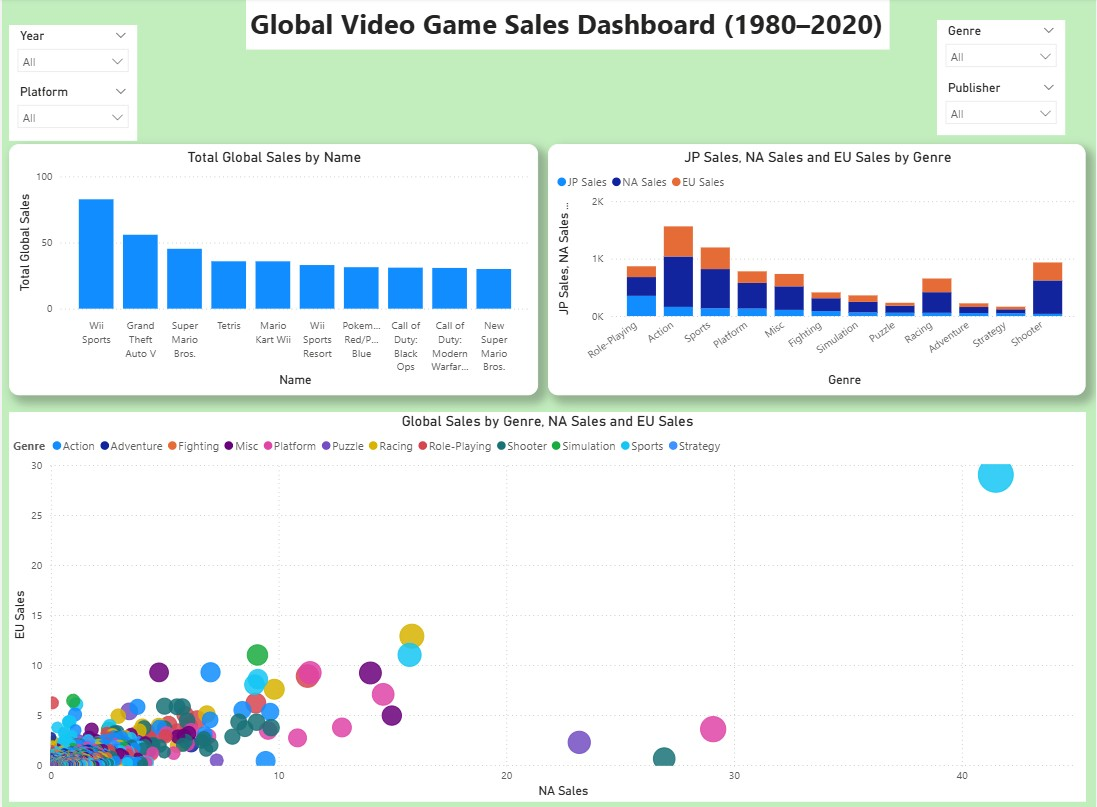

The dashboard page shown, as its layout file describes it:
{"tool":"powerbi","page":{"name":"Page 2","canvas":[1280,950],"ordinal":1},"visuals":[{"type":"textbox","box":[285.5,2.3,753.4,58.5],"z":0},{"type":"columnChart","fields":{"Category":["vgsales.Name"],"Y":["vgsales.Total_Global_Sales"]},"box":[8.2,170.8,618.9,293.7],"z":1000},{"type":"columnChart","fields":{"Category":["vgsales.Genre"],"Y":["Sum(vgsales.JP_Sales)","Sum(vgsales.NA_Sales)","Sum(vgsales.EU_Sales)"]},"box":[638.8,170.8,629.4,293.7],"z":2000},{"type":"scatterChart","title":"Global Sales by Genre, NA Sales and EU Sales","fields":{"Y":["vgsales.EU_Sales"],"X":["vgsales.NA_Sales"],"Size":["Sum(vgsales.Global_Sales)"],"Series":["vgsales.Genre"]},"box":[8.2,484.4,1260,456.3],"z":3000},{"type":"slicer","fields":{"Values":["vgsales.Year"]},"box":[8.2,31.6,149.8,65.5],"z":4000},{"type":"slicer","fields":{"Values":["vgsales.Platform"]},"box":[8.2,97.1,149.8,70.2],"z":5000},{"type":"slicer","fields":{"Values":["vgsales.Genre"]},"box":[1093.9,25.7,149.8,66.7],"z":6000},{"type":"slicer","fields":{"Values":["vgsales.Publisher"]},"box":[1093.9,92.4,149.8,67.9],"z":7000}]}

Visuals, with their boxes in screenshot pixels (x1, y1, x2, y2), scaled from the page's 1280x950 canvas onto the 1097x807 screenshot:
textbox: box=[245, 2, 890, 52]
columnChart - vgsales.Name x vgsales.Total_Global_Sales: box=[7, 145, 537, 395]
columnChart - vgsales.Genre x Sum(vgsales.JP_Sales): box=[547, 145, 1087, 395]
"Global Sales by Genre, NA Sales and EU Sales" scatterChart: box=[7, 411, 1087, 799]
slicer - vgsales.Year: box=[7, 27, 135, 82]
slicer - vgsales.Platform: box=[7, 82, 135, 142]
slicer - vgsales.Genre: box=[938, 22, 1066, 78]
slicer - vgsales.Publisher: box=[938, 78, 1066, 136]
